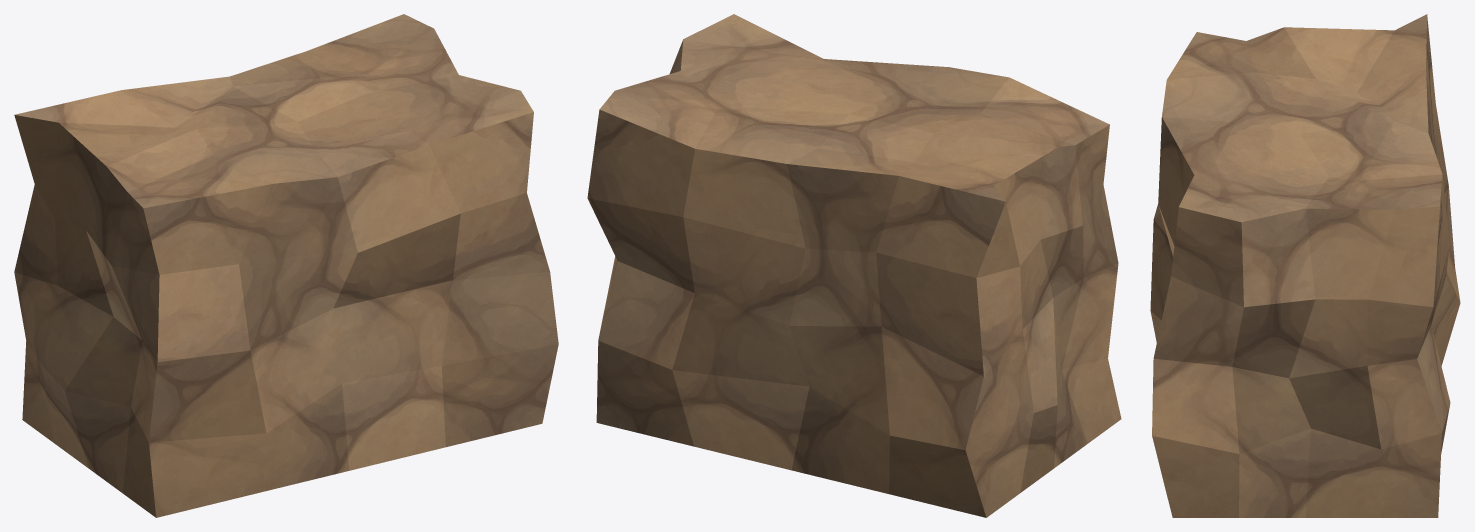
The model's file is cliff_block.gltf.
3 views of the same model, side by side, from view 1: azimuth 30°, elevation 25°; view 2: azimuth 150°, elevation 25°; view 3: azimuth 270°, elevation 25° (orthographic).
Parts seen in each view (by area): view 1: cliff_block; view 2: cliff_block; view 3: cliff_block.
Boxes of the visible parts, bbox=[...] form: cliff_block: bbox=[14, 14, 558, 517]; cliff_block: bbox=[587, 14, 1121, 517]; cliff_block: bbox=[1150, 14, 1460, 517].
Bounding box in the file's own units: 4.32 × 3.09 × 2.8.
1 material, 1 textured.
